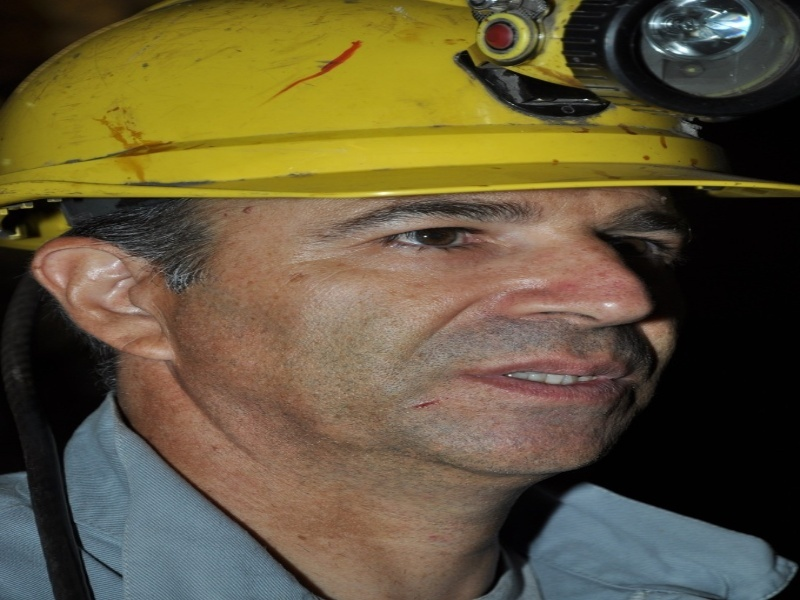baret: (3, 1, 796, 208)
